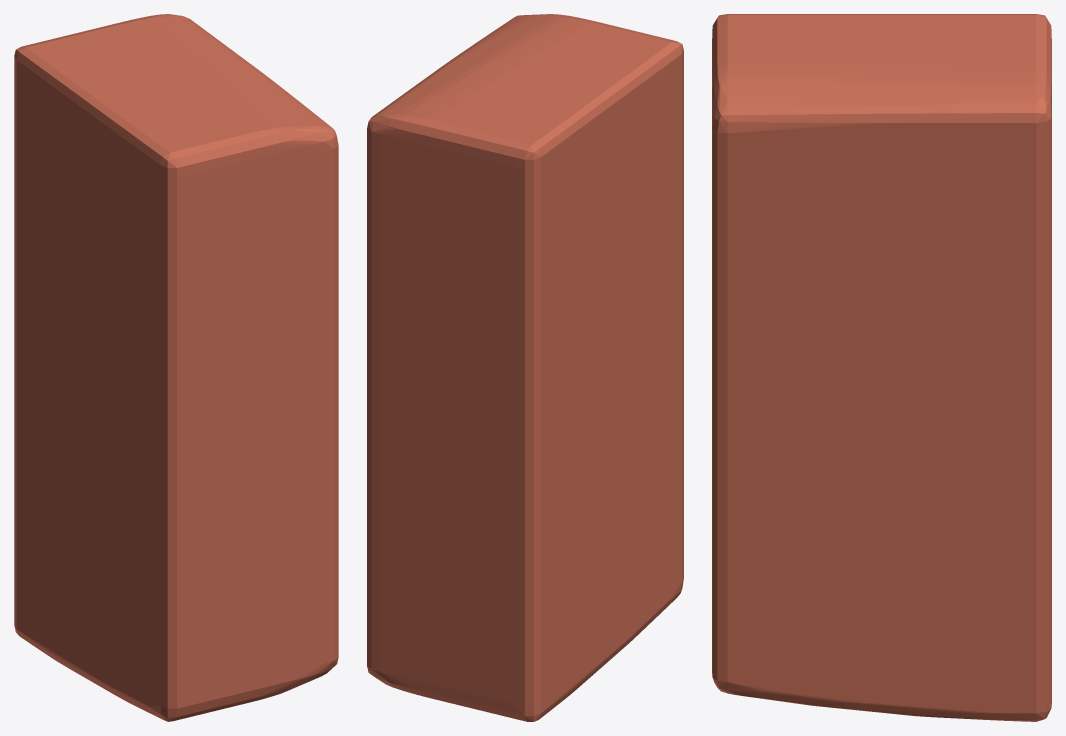
The model's file is right_f_distal_pst_part_9.obj.
The picture shows the model from 3 angles, left to right: view 1: azimuth 30°, elevation 25°; view 2: azimuth 150°, elevation 25°; view 3: azimuth 270°, elevation 25°; orthographic projection. The views are drawn at different scales.
Bounding box in the file's own units: 4.55 × 14.56 × 7.09.
